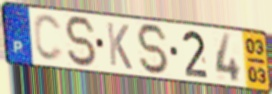2: (181, 29, 210, 80)
4: (213, 31, 244, 84)
C: (32, 13, 65, 64)
K: (105, 20, 134, 72)
S: (135, 22, 172, 77), (63, 14, 100, 69)
